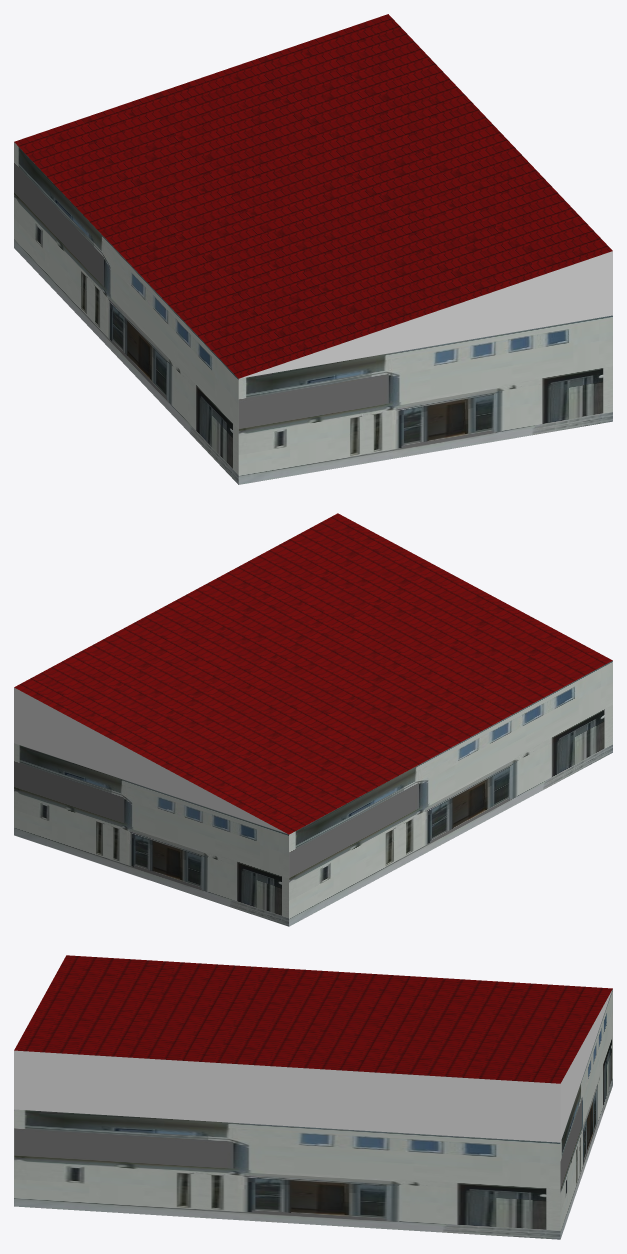
The picture shows the model from 3 angles, top to bottom: view 1: azimuth 30°, elevation 25°; view 2: azimuth 150°, elevation 25°; view 3: azimuth 270°, elevation 25°; orthographic projection. The views are drawn at different scales.
Visible parts, largest first — view 1: CityEngineMaterial_17_m, CityEngineMaterial_11_m, CityEngineMaterial_3_m; view 2: CityEngineMaterial_17_m, CityEngineMaterial_11_m, CityEngineMaterial_3_m; view 3: CityEngineMaterial_11_m, CityEngineMaterial_17_m, CityEngineMaterial_3_m.
Part boxes in pixels (<box>): CityEngineMaterial_17_m: <box>14,14,612,378</box>; CityEngineMaterial_11_m: <box>14,142,612,484</box>; CityEngineMaterial_3_m: <box>240,251,612,378</box>; CityEngineMaterial_17_m: <box>14,513,612,834</box>; CityEngineMaterial_11_m: <box>14,660,612,926</box>; CityEngineMaterial_3_m: <box>14,687,286,833</box>; CityEngineMaterial_11_m: <box>14,989,612,1239</box>; CityEngineMaterial_17_m: <box>14,955,612,1083</box>; CityEngineMaterial_3_m: <box>14,989,612,1142</box>.
Size of the model in its own units: 25.11 by 9.74 by 33.93.
